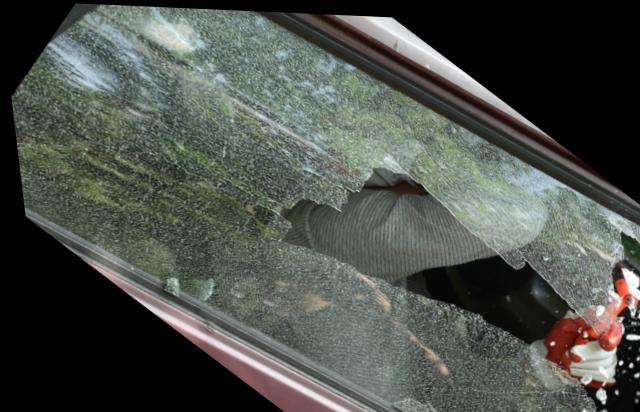glass shatter: (9, 3, 640, 412)
